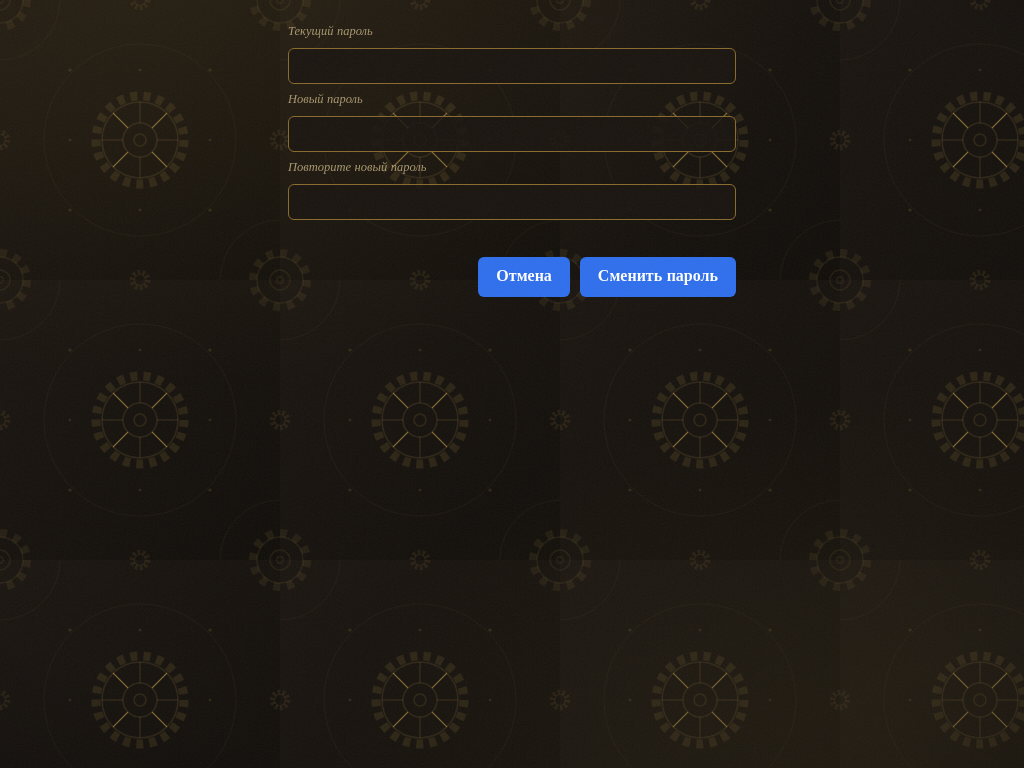
Test: PasswordChangeModal › client validation blocks submit for несовпадающее подтверждение: no request, russian inline alert
Type "old-pass-123" into the password field labelled "Текущий пароль" at (512,66), box left=288, top=48, right=736, bottom=84
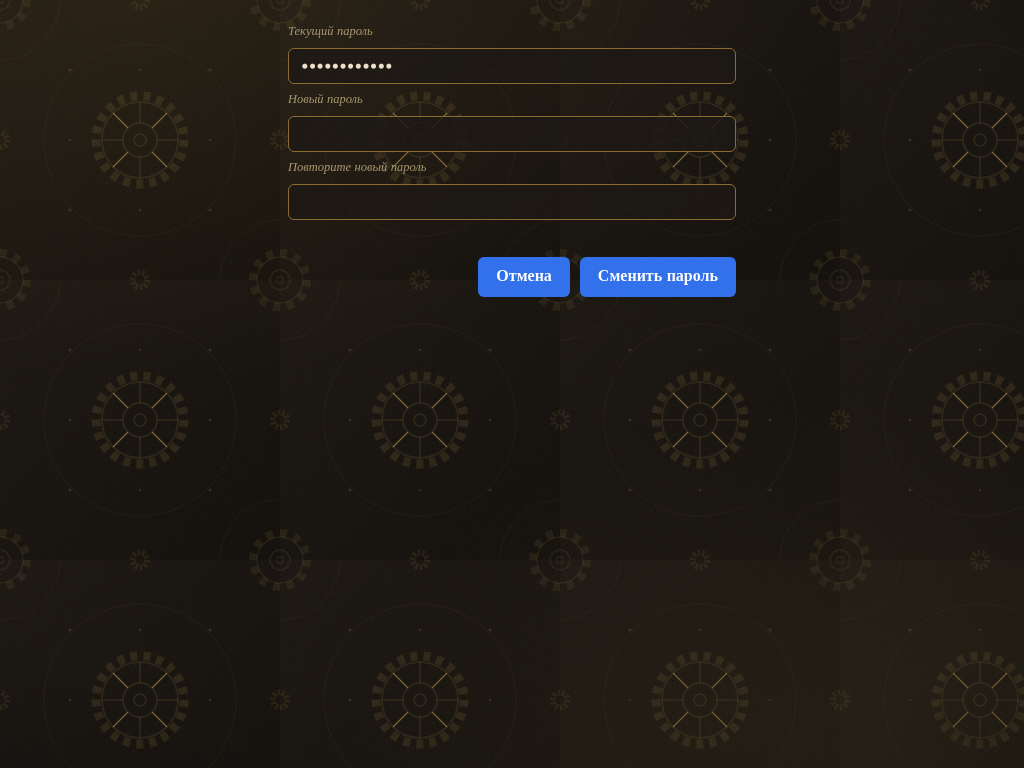
Type "Str0ng!2" into the password field labelled "Новый пароль" at (512,134), box left=288, top=116, right=736, bottom=152
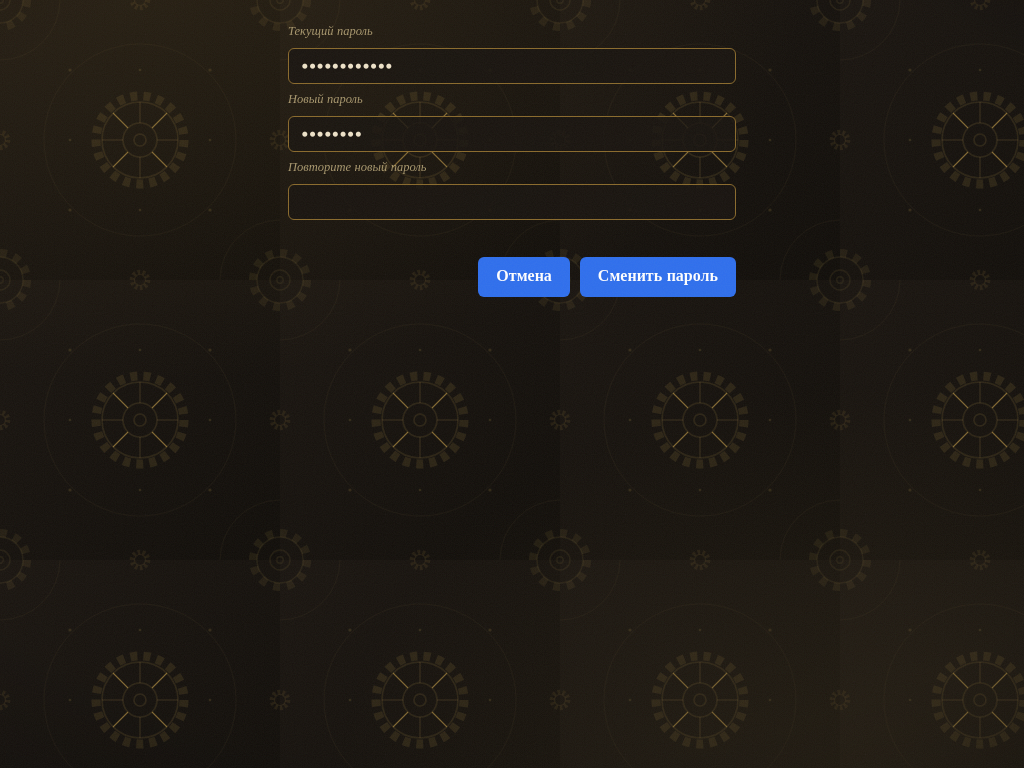
Type "Str0ng!3" into the password field labelled "Повторите новый пароль" at (512,202), box left=288, top=184, right=736, bottom=220
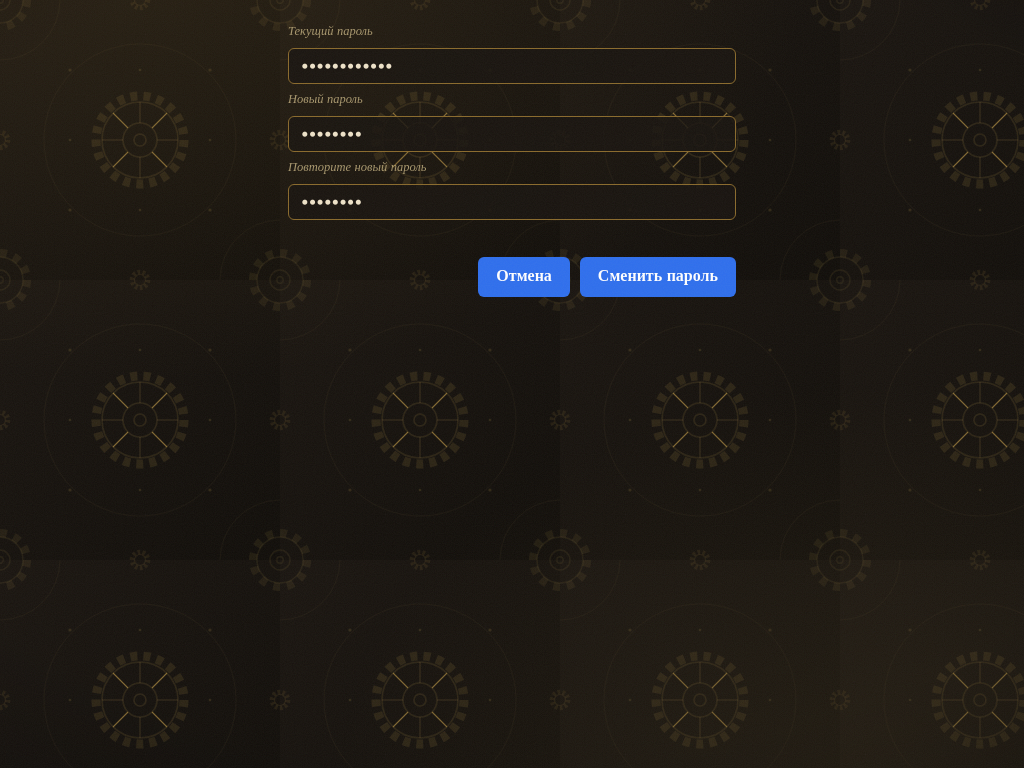
Click the button "Сменить пароль" at (658,277), box left=580, top=257, right=736, bottom=297
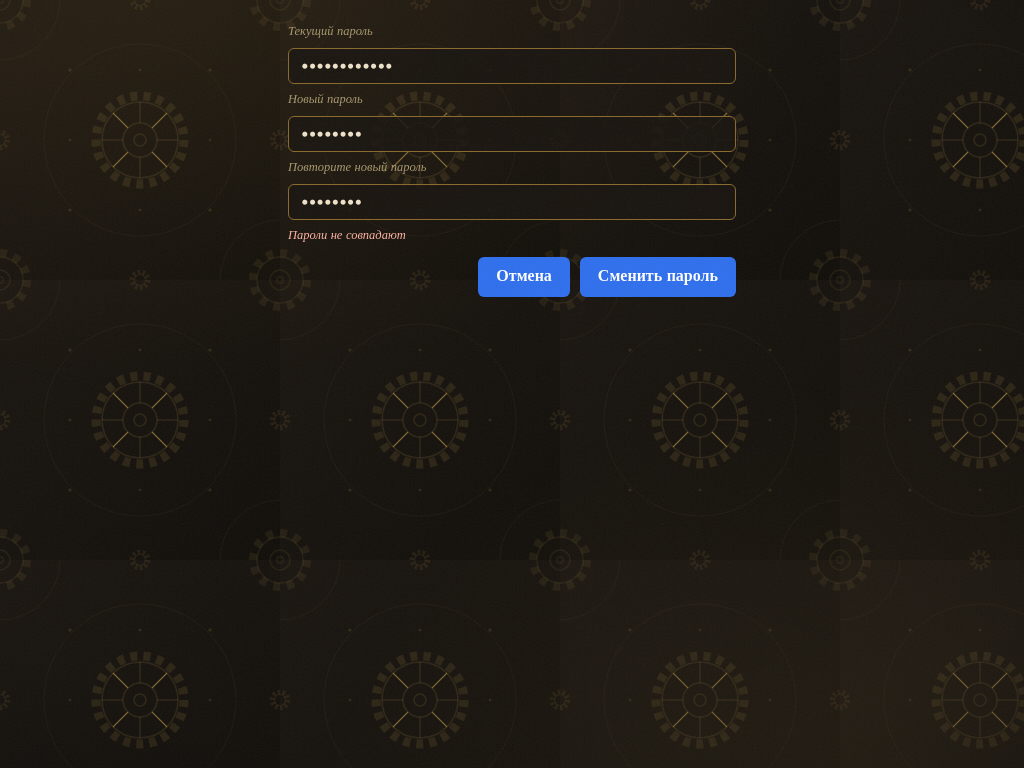
Expected: the message reads "Пароли не совпадают", left=288, top=229, right=406, bottom=242
